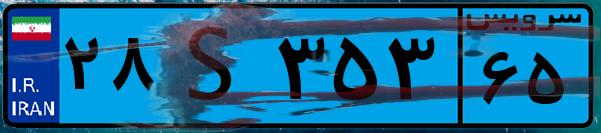2: (57, 26, 110, 100)
3: (270, 28, 330, 110), (385, 28, 445, 110)
5: (330, 28, 385, 110), (525, 38, 570, 115)
6: (475, 38, 525, 113)
8: (110, 28, 158, 98)
S: (158, 12, 270, 120)
